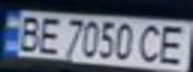0: (115, 20, 139, 62), (78, 17, 100, 59)
5: (97, 18, 118, 61)
7: (60, 16, 84, 57)
B: (12, 12, 45, 53)
C: (136, 21, 166, 64)
E: (154, 21, 193, 65), (33, 15, 63, 55)
